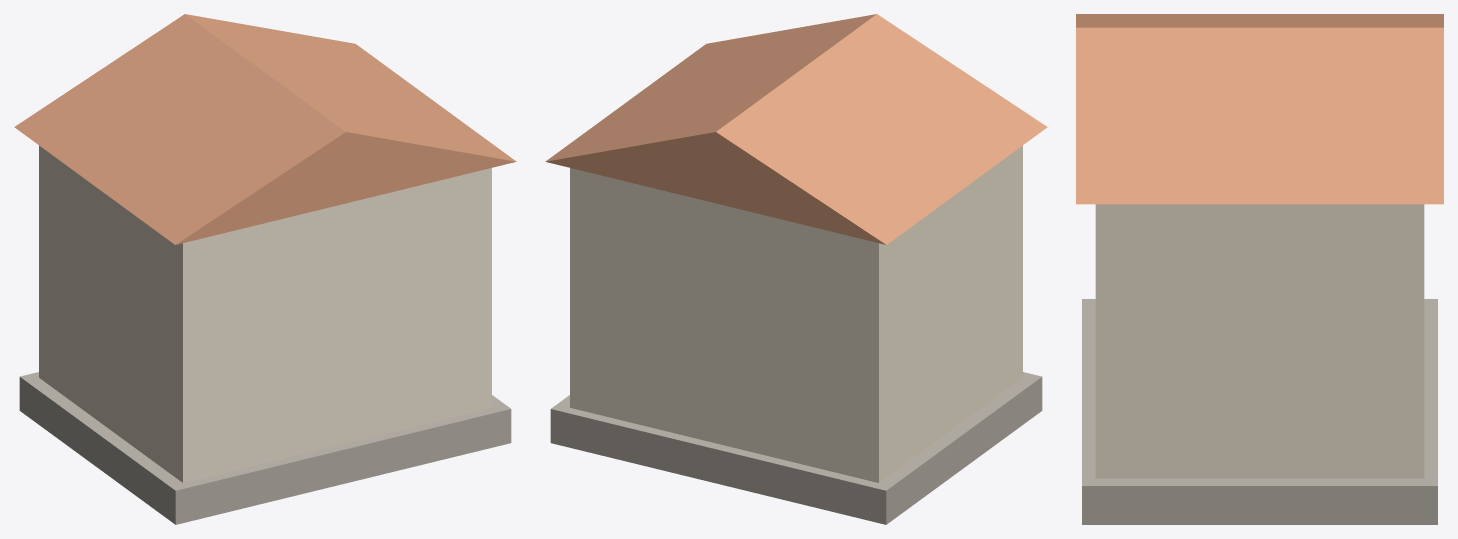
File: chart_house_cupola_far-CZuVK8Ow.glb
3 views of the same model, side by side, from view 1: azimuth 30°, elevation 25°; view 2: azimuth 150°, elevation 25°; view 3: azimuth 270°, elevation 25° (orthographic). The views are drawn at different scales.
Visible parts, largest first — view 1: chart_house_cupola_far; view 2: chart_house_cupola_far; view 3: chart_house_cupola_far.
Part boxes in pixels (<box>): chart_house_cupola_far: <box>14,14,516,524</box>; chart_house_cupola_far: <box>545,14,1047,524</box>; chart_house_cupola_far: <box>1076,14,1443,524</box>.
Bounding box in the file's own units: 5.75 × 5.69 × 4.7.
